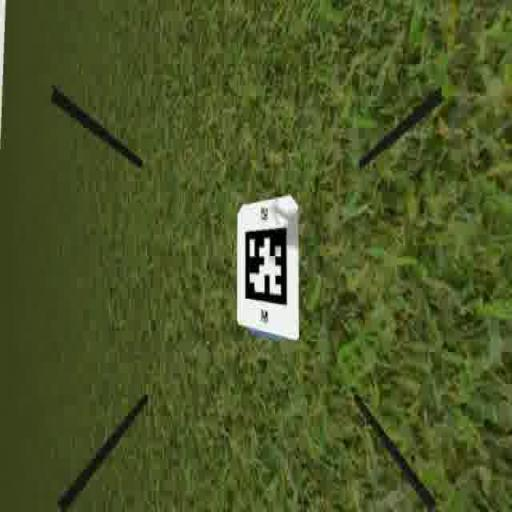UGV: (236, 191, 303, 348)
